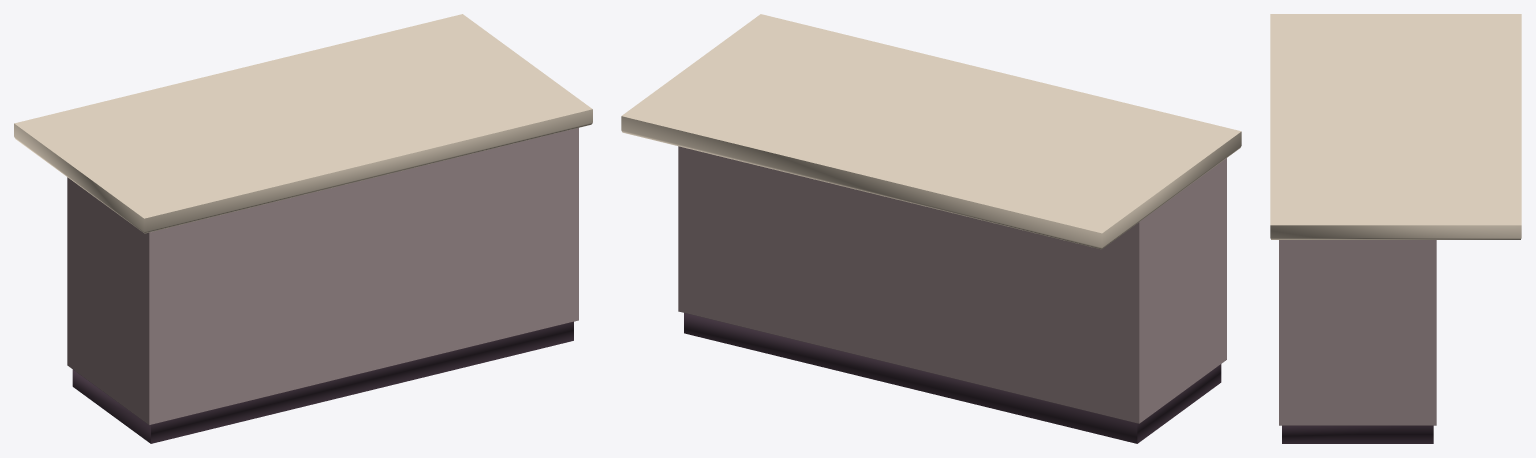
Rendered from Kitchen Island.fbx.
The picture shows the model from 3 angles, left to right: view 1: azimuth 30°, elevation 25°; view 2: azimuth 150°, elevation 25°; view 3: azimuth 270°, elevation 25°; orthographic projection. The views are drawn at different scales.
Visible parts, largest first — view 1: Counter; view 2: Counter; view 3: Counter.
Boxes of the visible parts, x1=… form: Counter: x1=14, y1=14, x2=592, y2=443; Counter: x1=621, y1=14, x2=1241, y2=443; Counter: x1=1270, y1=14, x2=1521, y2=443.
Size of the model in its own units: 522 by 262 by 259.
